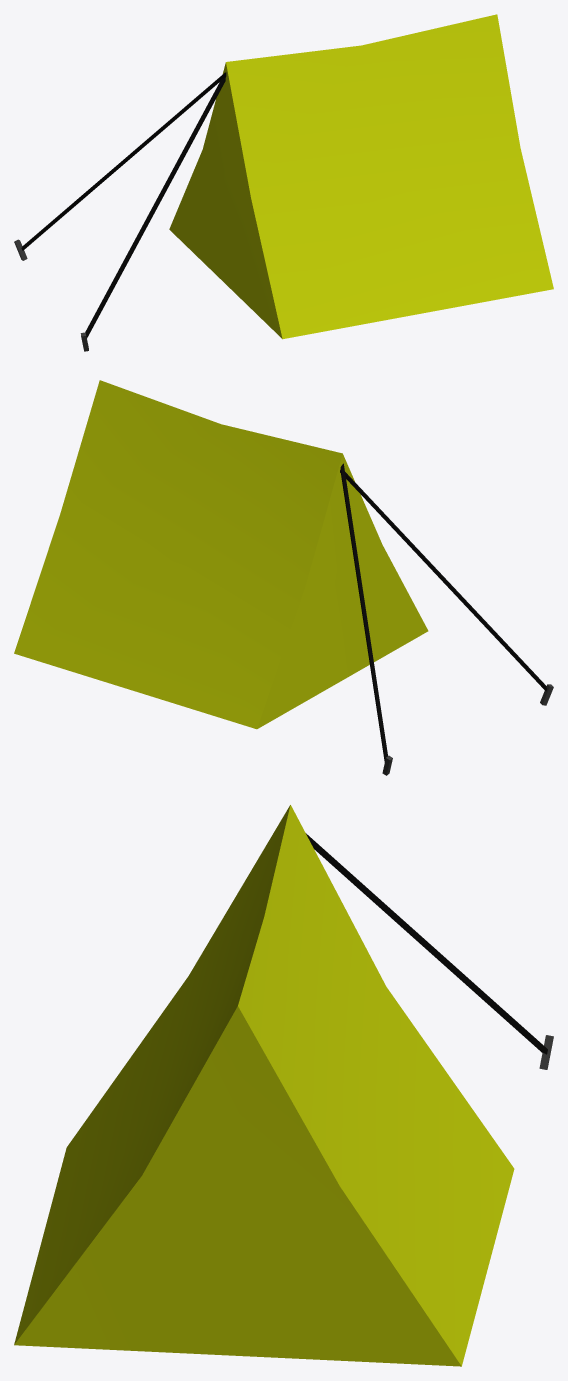
Rendered from TestTent.fbx.
3 renders of one model, top to bottom at view 1: azimuth 30°, elevation 25°; view 2: azimuth 150°, elevation 25°; view 3: azimuth 270°, elevation 25°, orthographic. The views are drawn at different scales.
Parts seen in each view (by area): view 1: Tent, TentRope000, TentRope001; view 2: Tent, TentRope001, TentRope000; view 3: Tent, TentRope001.
Part boxes in pixels (left/top/right/bottom): Tent: left=169, top=14, right=553, bottom=339; TentRope000: left=85, top=77, right=225, bottom=338; TentRope001: left=21, top=72, right=226, bottom=250; Tent: left=14, top=380, right=428, bottom=729; TentRope001: left=340, top=463, right=387, bottom=762; TentRope000: left=340, top=469, right=547, bottom=691; Tent: left=14, top=805, right=514, bottom=1366; TentRope001: left=306, top=833, right=547, bottom=1054.
Size of the model in its own units: 2856 by 1889 by 1393.
